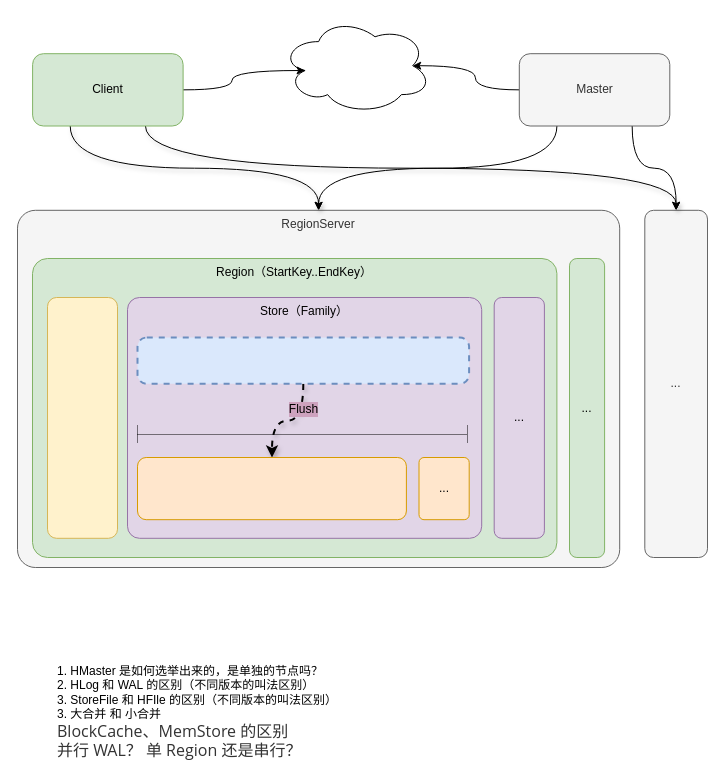
The diagram is 725 pixels wide and 778 high, and some of its shapes have lost their labels. The centre of each missing label's shape, as x and y in pixels:
"HFile - StoreFile" belongs at point 271,488.
"MemStore (Cache)" belongs at point 303,360.
"minor、major compaction" belongs at point 302,434.
"WAL(Log) - HLog" belongs at point 82,417.
"Zookeeper" belongs at point 356,65.
